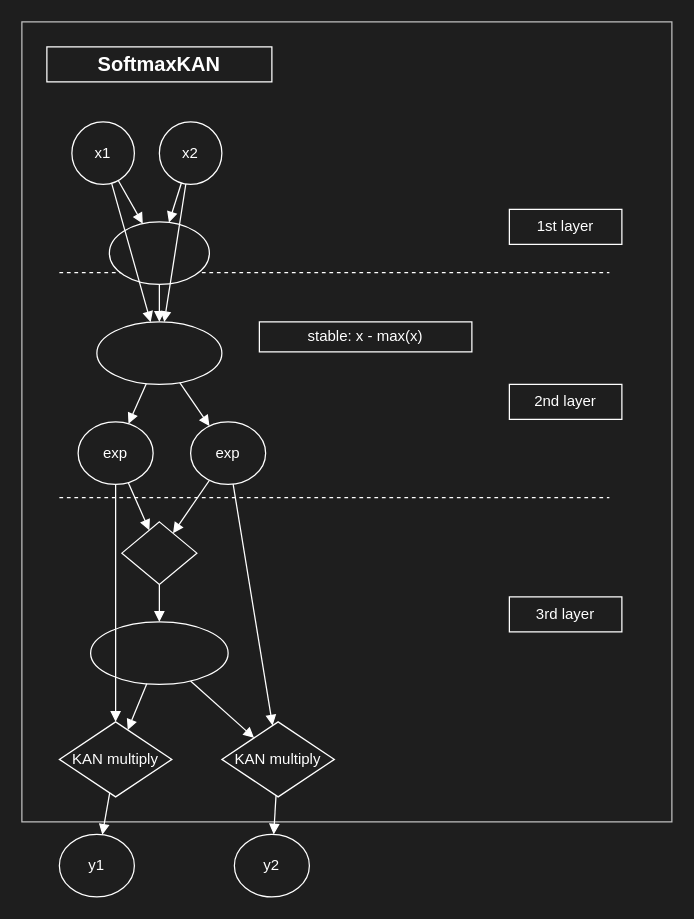
The diagram is 694 pixels wide and 919 high, and some of its shapes have lost their labels. Here are the shapes that lost their labels. From the top down, the centre of each, then its label:
(x=158, y=252): KAN max
(x=159, y=352): x - max
(x=159, y=552): sum
(x=158, y=652): reciprocal
